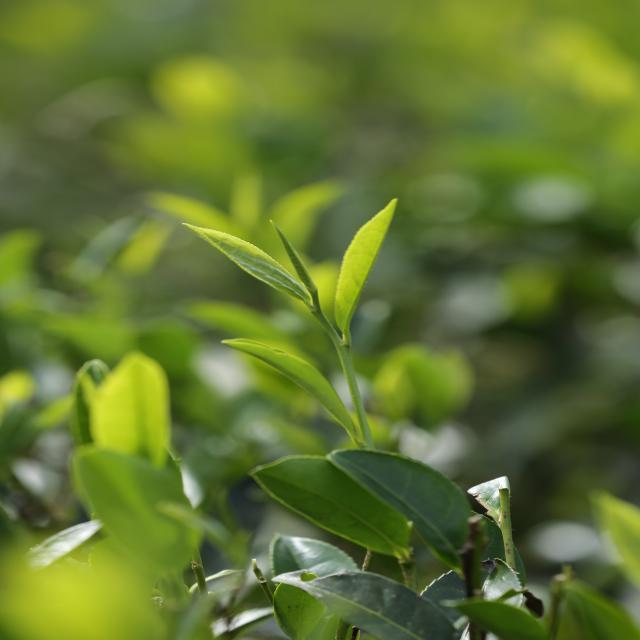Stem: (339, 342, 350, 356)
